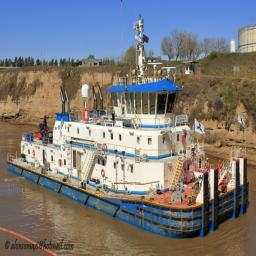tugboat: (6, 61, 252, 244)
